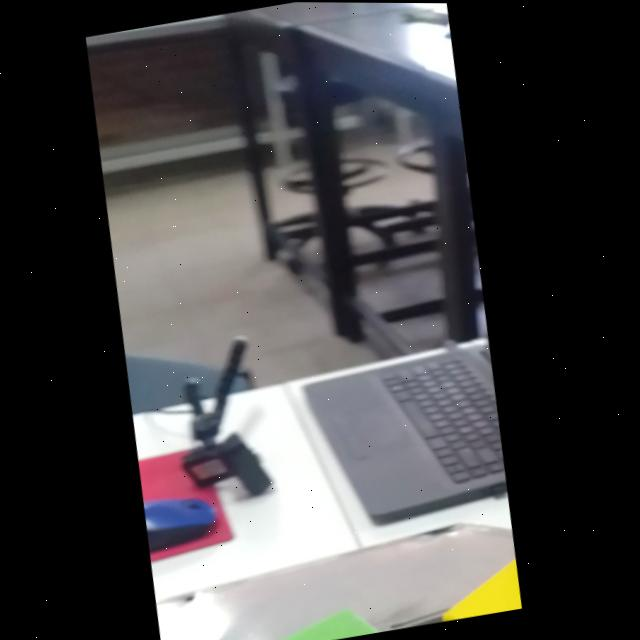greenBox: (230, 595, 417, 640)
yellowBox: (437, 548, 530, 621)
